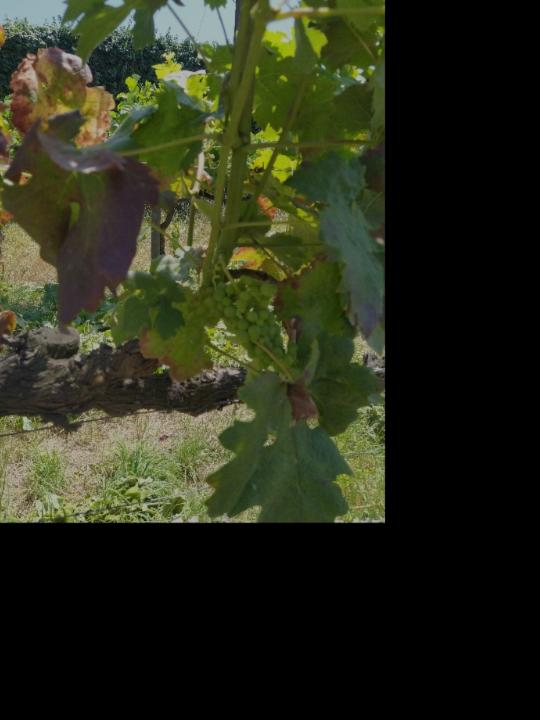grape: (199, 270, 288, 369)
